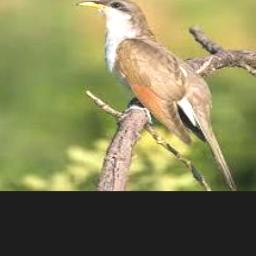Cuckoo: (76, 0, 238, 190)
